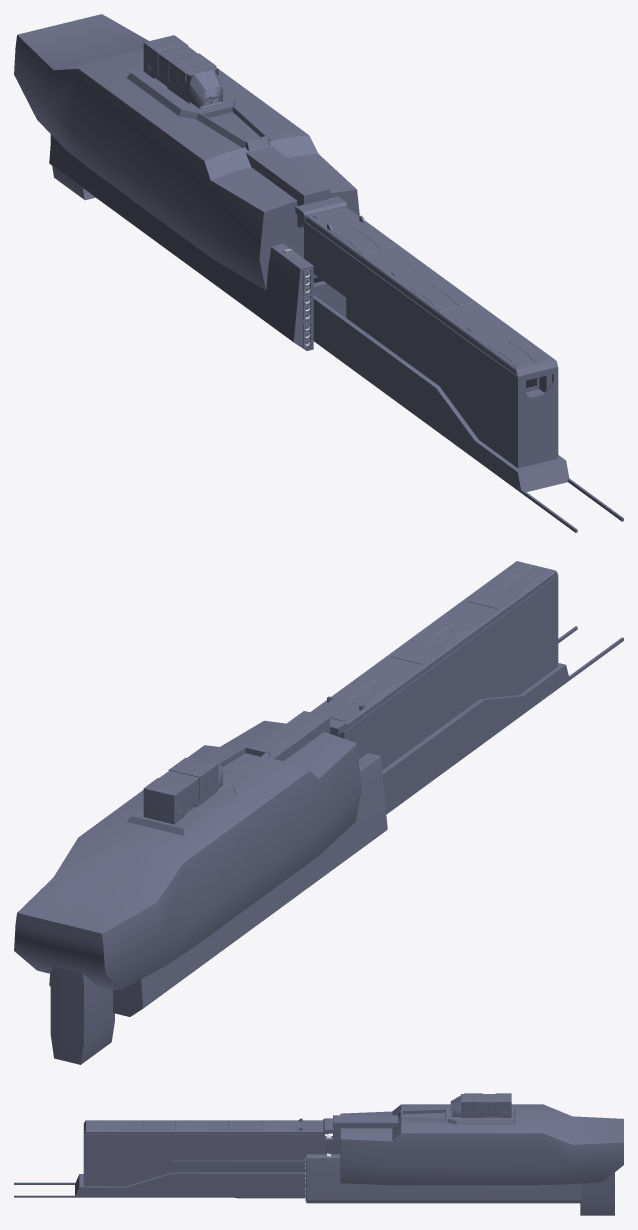
The model's file is aCMa-008 Neopolitan.fbx.
3 renders of one model, top to bottom at view 1: azimuth 30°, elevation 25°; view 2: azimuth 150°, elevation 25°; view 3: azimuth 270°, elevation 25°, orthographic. The views are drawn at different scales.
Visible parts, largest first — view 1: engine_Main.001, cannon_Main.002, engine_Side.003, FIX bridge_base; view 2: engine_Main.001, cannon_Main.002, engine_Side.003, FIX bridge_base; view 3: engine_Main.001, cannon_Main.002, engine_Side.003, FIX bridge_base.
Boxes of the visible parts, left/top/right/bottom form: engine_Main.001: left=14, top=14, right=359, bottom=290; cannon_Main.002: left=295, top=196, right=623, bottom=532; engine_Side.003: left=49, top=134, right=322, bottom=350; FIX bridge_base: left=126, top=35, right=270, bottom=151; engine_Main.001: left=14, top=711, right=361, bottom=990; cannon_Main.002: left=310, top=561, right=623, bottom=814; engine_Side.003: left=49, top=753, right=387, bottom=1064; FIX bridge_base: left=127, top=745, right=270, bottom=835; engine_Main.001: left=333, top=1104, right=623, bottom=1185; cannon_Main.002: left=14, top=1118, right=333, bottom=1198; engine_Side.003: left=306, top=1136, right=614, bottom=1215; FIX bridge_base: left=397, top=1093, right=515, bottom=1124.
Size of the model in its own units: 349 by 576 by 2779.
